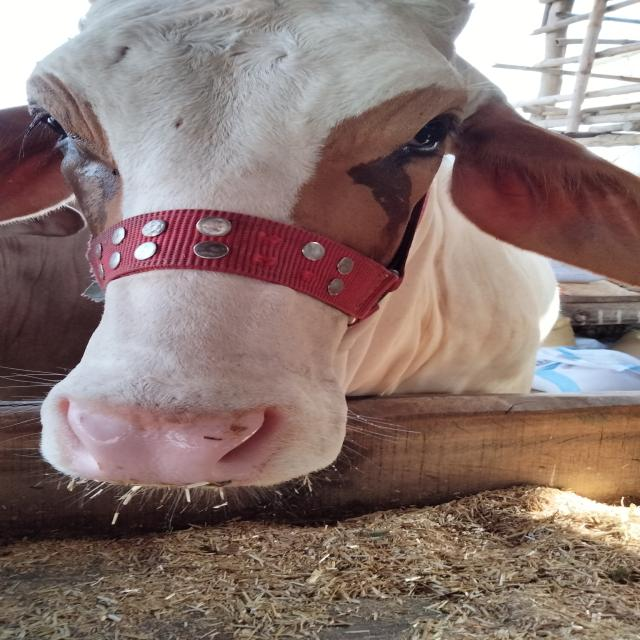muzzles: (39, 384, 308, 493)
